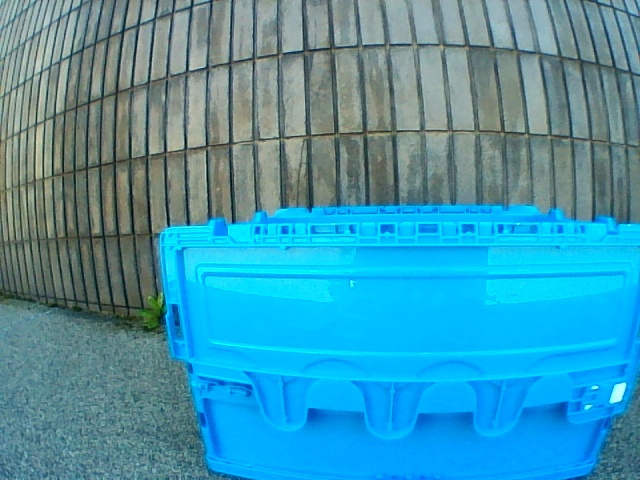blue_box: (159, 204, 640, 480)
